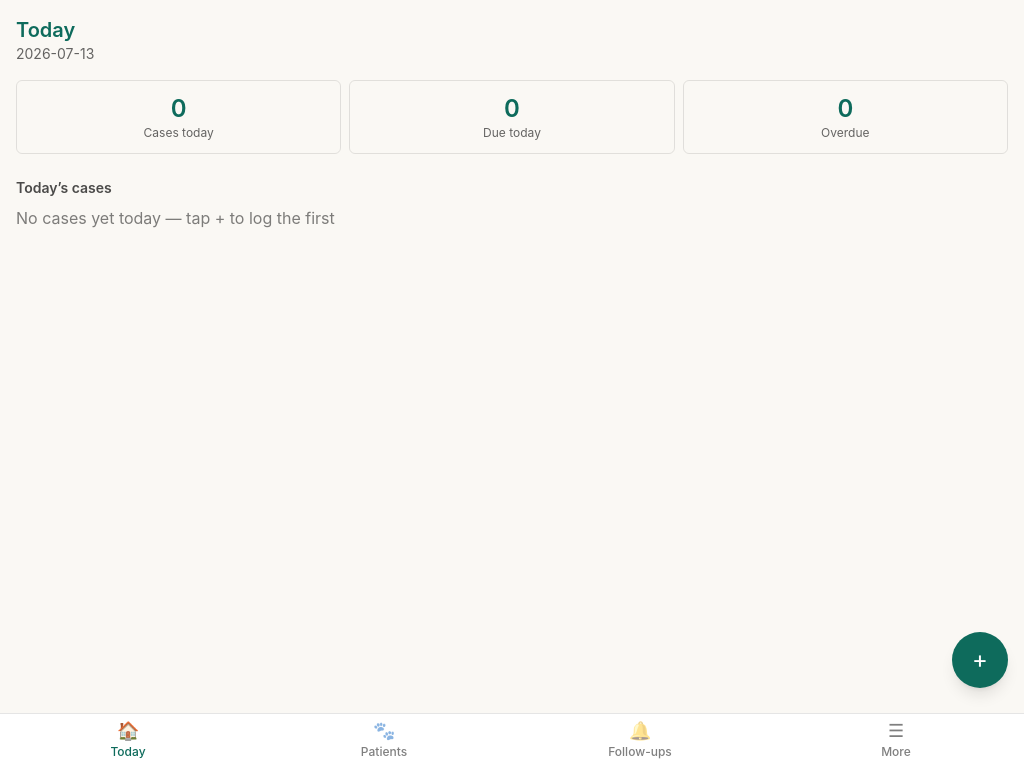
Test: App bottom tab navigation › navigates to the Patients page when its tab is clicked
This screenshot has width=1024, height=768.
Click the link "🐾 Patients".
click(384, 740)  # box [361,720,407,759]
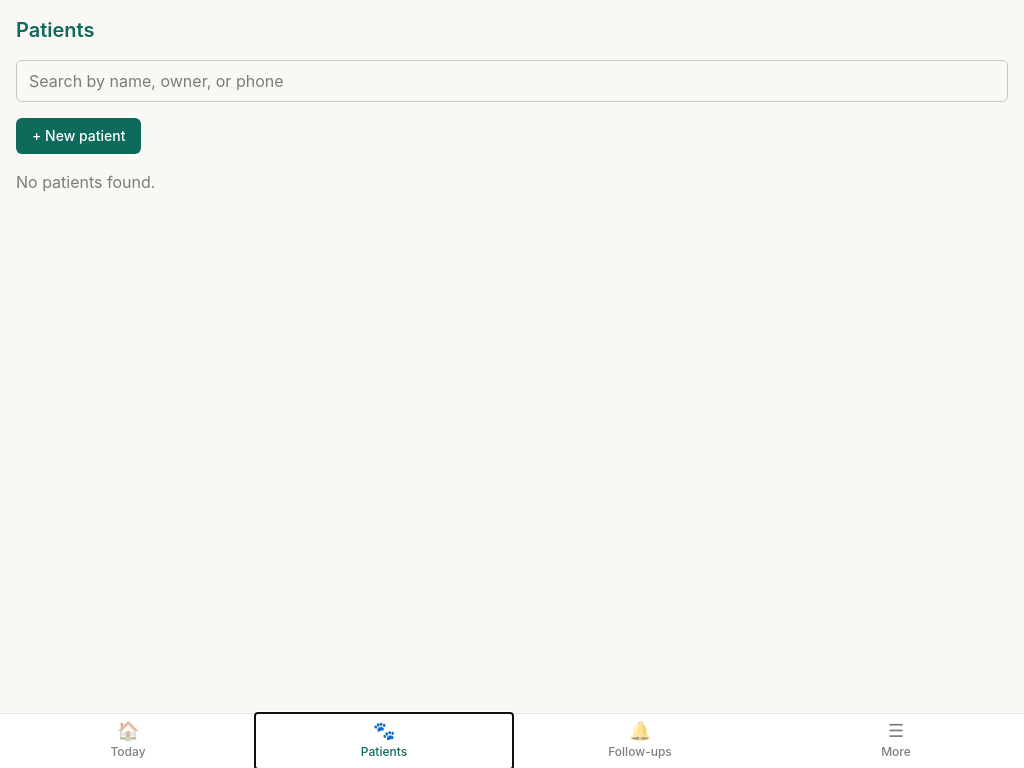
Now the heading "Patients" is shown, box [16,18,94,42]
